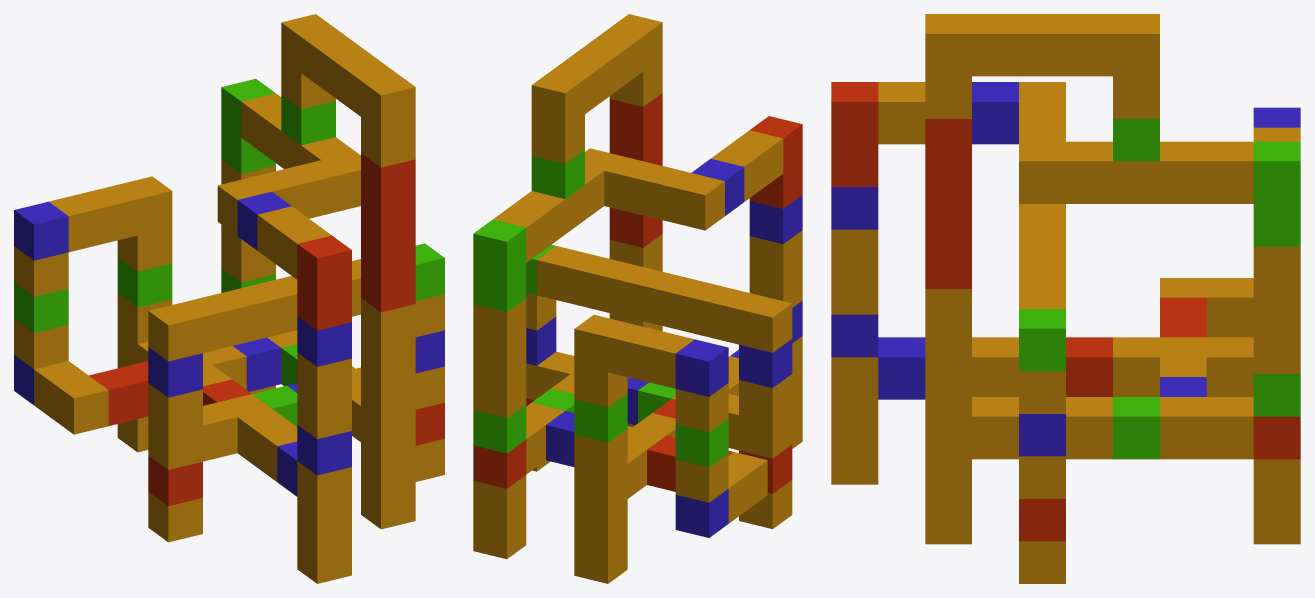
3 renders of one model, left to right at view 1: azimuth 30°, elevation 25°; view 2: azimuth 150°, elevation 25°; view 3: azimuth 270°, elevation 25°, orthographic. The views are drawn at different scales.
Parts seen in each view (by area): view 1: Null_8, Null_3, Null_1, Null, Null_6, Null_2, Null_4, Null_5; view 2: Null_8, Null_3, Null_1, Null, Null_2, Null_5, Null_4, Null_6, Null_7; view 3: Null_8, Null_3, Null_6, Null, Null_5, Null_4, Null_1, Null_2, Null_7.
Boxes of the visible parts, x1,y1,x2,y2 form: Null_8: (221,14,415,529); Null_3: (117,176,351,583); Null_1: (49,193,202,542); Null: (14,201,108,434); Null_6: (415,243,444,481); Null_2: (83,184,237,461); Null_4: (203,168,306,426); Null_5: (233,160,341,392); Null_8: (473,14,662,559); Null_3: (574,116,802,583); Null_1: (641,295,792,529); Null: (675,339,767,537); Null_2: (608,287,757,491); Null_5: (546,156,656,466); Null_4: (627,164,690,430); Null_6: (526,244,556,471); Null_7: (537,246,589,398); Null_8: (925,14,1300,544); Null_3: (831,82,1253,484); Null_6: (1019,309,1065,583); Null: (1160,107,1300,337); Null_5: (1019,121,1206,396); Null_4: (1019,102,1206,376); Null_1: (1160,127,1300,317); Null_2: (1019,204,1206,337); Null_7: (1019,289,1065,308).
Bounding box in the file's own units: 746 × 995 × 829.
